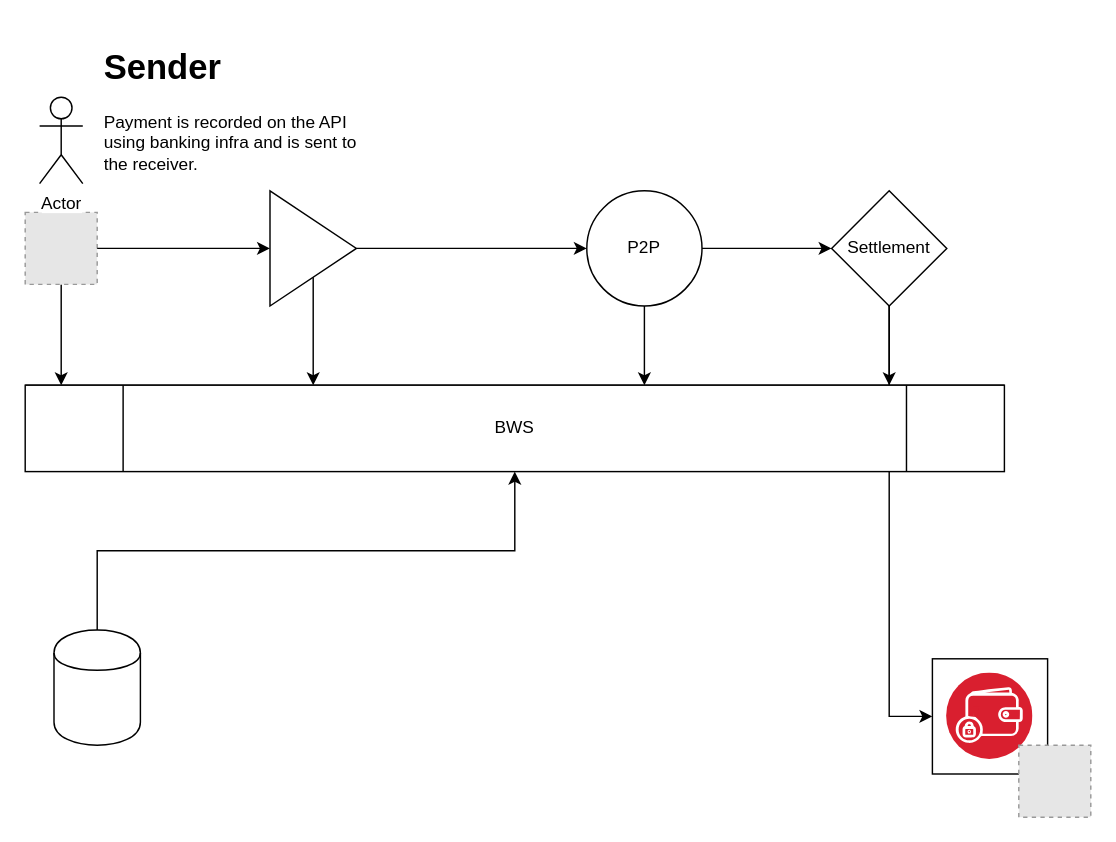
Some shapes in this 1116 by 842 pixel diagram are drawn without their labels. Grey dashed boxes stand in for pictures. Here are the shapes that lost their labels. From the top down, the centre of each, then its label:
point 312,247: Trade
point 96,687: Nodes
